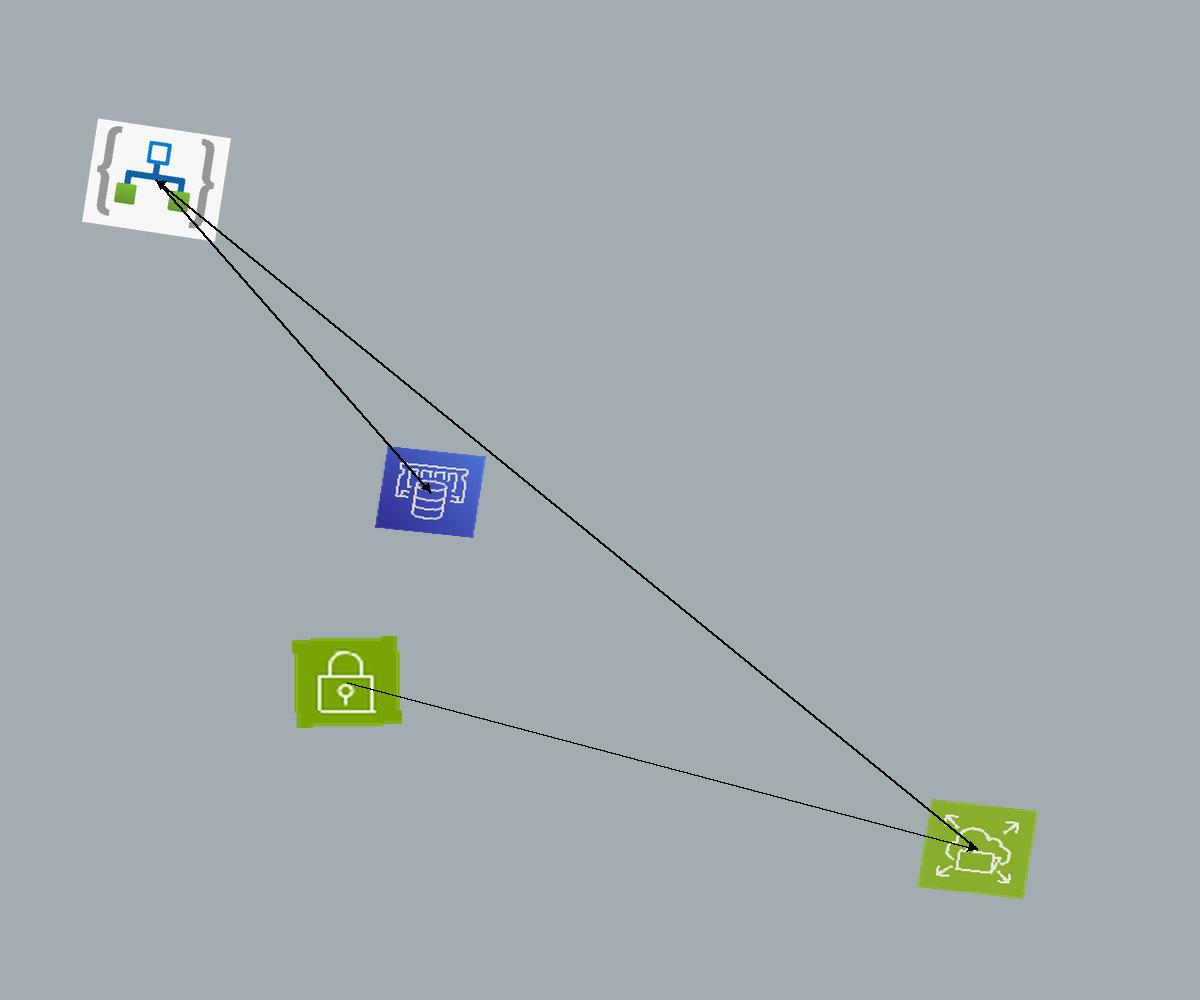AWS-EFS: (916, 798, 1039, 900)
AWS-ElastiCache: (375, 446, 486, 538)
AWS-Public-subnet: (292, 636, 402, 728)
Azure_integration-204-Logic-Apps: (82, 118, 231, 242)
